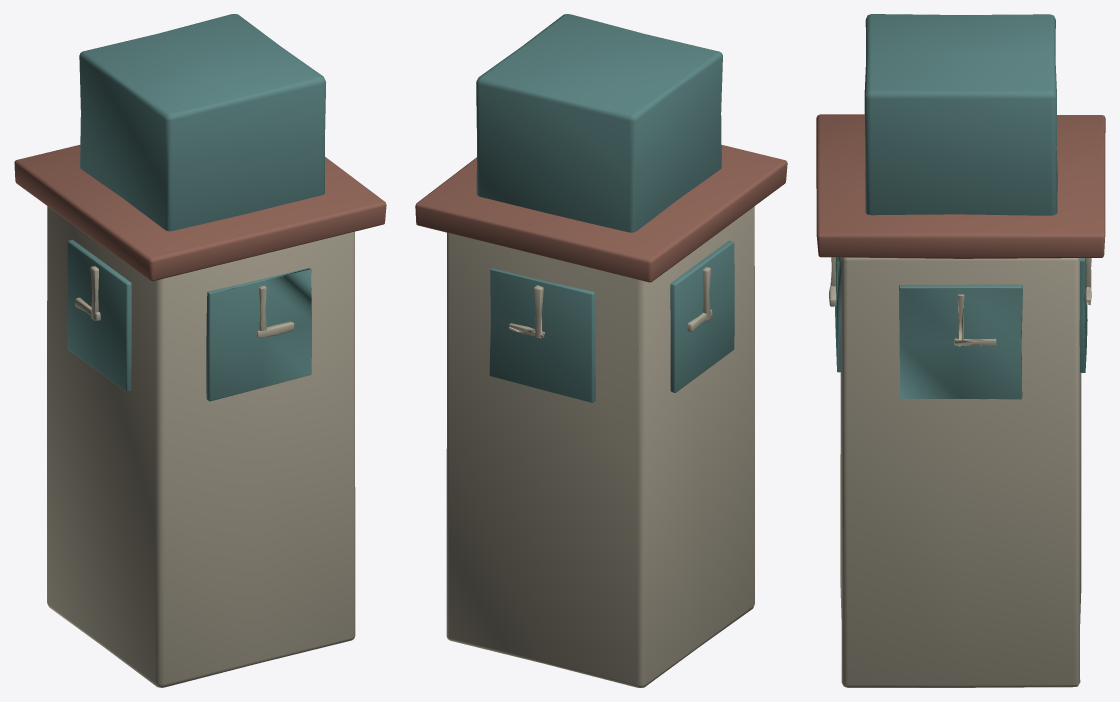
Rendered from prop_clock_tower.glb.
The picture shows the model from 3 angles, left to right: view 1: azimuth 30°, elevation 25°; view 2: azimuth 150°, elevation 25°; view 3: azimuth 270°, elevation 25°; orthographic projection. The views are drawn at different scales.
Parts seen in each view (by area): view 1: scenery_cream, scenery_teal, scenery_coral; view 2: scenery_cream, scenery_teal, scenery_coral; view 3: scenery_cream, scenery_teal, scenery_coral.
Boxes of the visible parts, x1=… form: scenery_cream: x1=47, y1=206, x2=355, y2=687; scenery_teal: x1=67, y1=14, x2=325, y2=401; scenery_coral: x1=14, y1=145, x2=386, y2=281; scenery_cream: x1=446, y1=206, x2=754, y2=687; scenery_teal: x1=476, y1=14, x2=734, y2=402; scenery_coral: x1=415, y1=144, x2=787, y2=282; scenery_cream: x1=829, y1=257, x2=1091, y2=687; scenery_teal: x1=835, y1=14, x2=1087, y2=399; scenery_coral: x1=816, y1=114, x2=1105, y2=258.
Bounding box in the file's own units: 6 × 13.5 × 6.
